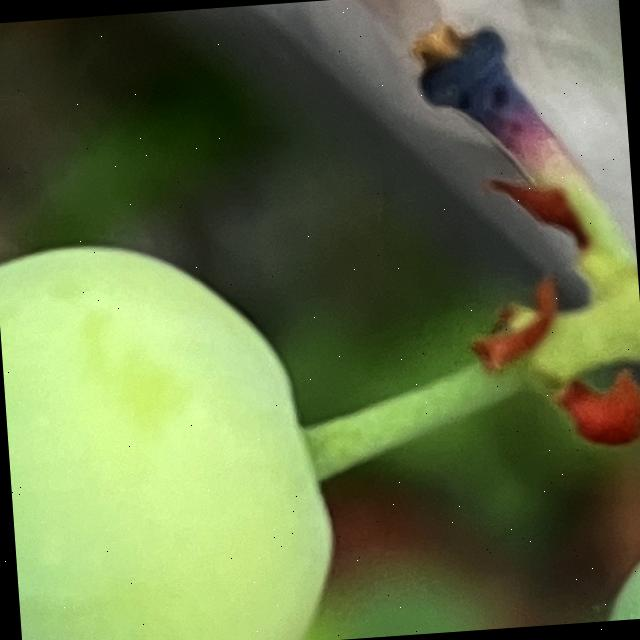Blueberries: (0, 226, 347, 640)
